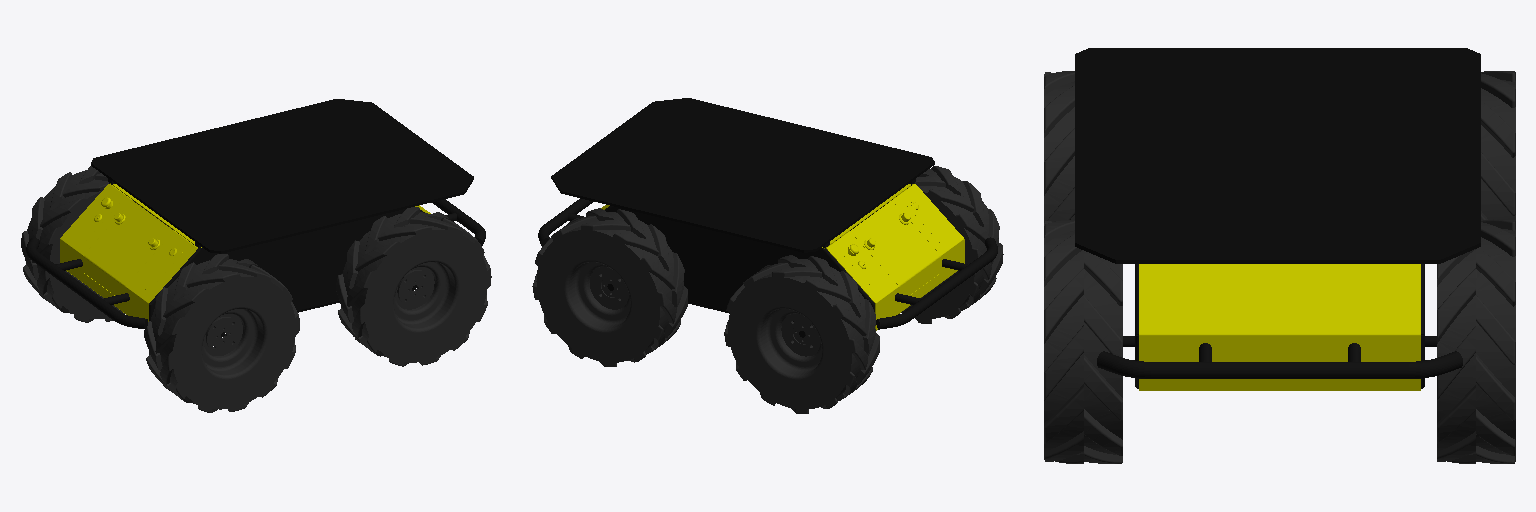
URDF robot description (husky):
<?xml version="1.0" ?>
<!-- =================================================================================== -->
<!-- |    This document was autogenerated by xacro from husky_description/urdf/husky.urdf.xacro | -->
<!-- |    EDITING THIS FILE BY HAND IS NOT RECOMMENDED                                 | -->
<!-- =================================================================================== -->
<!--
Software License Agreement (BSD)

\file      husky.urdf.xacro
\authors   [author] <[email redacted]>, [author] <[email redacted]>
\copyright Copyright (c) 2015, Clearpath Robotics, Inc., All rights reserved.

Redistribution and use in source and binary forms, with or without modification, are permitted provided that
the following conditions are met:
 * Redistributions of source code must retain the above copyright notice, this list of conditions and the
   following disclaimer.
 * Redistributions in binary form must reproduce the above copyright notice, this list of conditions and the
   following disclaimer in the documentation and/or other materials provided with the distribution.
 * Neither the name of Clearpath Robotics nor the names of its contributors may be used to endorse or promote
   products derived from this software without specific prior written permission.

THIS SOFTWARE IS PROVIDED BY THE COPYRIGHT [author] "AS IS" AND ANY EXPRESS OR IMPLIED WAR-
RANTIES, INCLUDING, BUT NOT LIMITED TO, THE IMPLIED WARRANTIES OF MERCHANTABILITY AND FITNESS FOR A PARTICULAR
PURPOSE ARE DISCLAIMED. IN NO EVENT SHALL THE COPYRIGHT [author] LIABLE FOR ANY DIRECT, IN-
DIRECT, INCIDENTAL, SPECIAL, EXEMPLARY, OR CONSEQUENTIAL DAMAGES (INCLUDING, BUT NOT LIMITED TO, PROCUREMENT
OF SUBSTITUTE GOODS OR SERVICES; LOSS OF USE, DATA, OR PROFITS; OR BUSINESS INTERRUPTION) HOWEVER CAUSED AND
ON ANY THEORY OF LIABILITY, WHETHER IN CONTRACT, STRICT LIABILITY, OR TORT (INCLUDING NEGLIGENCE OR OTHERWISE)
ARISING IN ANY WAY OUT OF THE USE OF THIS SOFTWARE, EVEN IF ADVISED OF THE POSSIBILITY OF SUCH DAMAGE.
-->
<robot name="husky" xmlns:xacro="http://ros.org/wiki/xacro">
  <!-- Base link is the center of the robot's bottom plate -->
  <link name="base_link">
    <visual>
      <origin rpy="0 0 0" xyz="0 0 0"/>
      <geometry>
        <mesh filename="package://husky_description/meshes/base_link.dae"/>
      </geometry>
    </visual>
    <collision>
      <origin rpy="0 0 0" xyz="0.0 0 0.061875"/>
      <geometry>
        <box size="0.9874 0.5709 0.12375"/>
      </geometry>
    </collision>
    <collision>
      <origin rpy="0 0 0" xyz="0 0 0.175625"/>
      <geometry>
        <box size="0.78992 0.5709 0.10375"/>
      </geometry>
    </collision>
  </link>
  <!-- Base footprint is on the ground under the robot -->
  <link name="base_footprint"/>
  <joint name="base_footprint_joint" type="fixed">
    <origin rpy="0 0 0" xyz="0 0 -0.13228"/>
    <parent link="base_link"/>
    <child link="base_footprint"/>
  </joint>
  <!-- Interial link stores the robot's inertial information -->
  <link name="inertial_link">
    <inertial>
      <mass value="46.034"/>
      <origin xyz="-0.00065 -0.085 0.062"/>
      <inertia ixx="0.6022" ixy="-0.02364" ixz="-0.1197" iyy="1.7386" iyz="-0.001544" izz="2.0296"/>
    </inertial>
  </link>
  <joint name="inertial_joint" type="fixed">
    <origin rpy="0 0 0" xyz="0 0 0"/>
    <parent link="base_link"/>
    <child link="inertial_link"/>
  </joint>
  <!-- IMU Link is the standard mounting position for the UM6 IMU.-->
  <!-- Can be modified with environment variables in /etc/ros/setup.bash -->
  <link name="imu_link"/>
  <joint name="imu_joint" type="fixed">
    <origin rpy="0 -1.5708 3.1416" xyz="0.19 0 0.149"/>
    <parent link="base_link"/>
    <child link="imu_link"/>
  </joint>
  <gazebo reference="imu_link">
  </gazebo>
  <link name="front_left_wheel_link">
    <inertial>
      <mass value="2.637"/>
      <origin xyz="0 0 0"/>
      <inertia ixx="0.02467" ixy="0" ixz="0" iyy="0.04411" iyz="0" izz="0.02467"/>
    </inertial>
    <visual>
      <origin rpy="0 0 0" xyz="0 0 0"/>
      <geometry>
        <mesh filename="package://husky_description/meshes/wheel.dae"/>
      </geometry>
    </visual>
    <collision>
      <origin rpy="1.570795 0 0" xyz="0 0 0"/>
      <geometry>
        <cylinder length="0.1143" radius="0.1651"/>
      </geometry>
    </collision>
  </link>
  <gazebo reference="front_left_wheel_link">
    <mu1 value="1.0"/>
    <mu2 value="1.0"/>
    <kp value="10000000.0"/>
    <kd value="1.0"/>
    <fdir1 value="1 0 0"/>
  </gazebo>
  <joint name="front_left_wheel" type="continuous">
    <parent link="base_link"/>
    <child link="front_left_wheel_link"/>
    <origin rpy="0 0 0" xyz="0.256 0.2854 0.03282"/>
    <axis rpy="0 0 0" xyz="0 1 0"/>
  </joint>
  <transmission name="front_left_wheel_trans" type="SimpleTransmission">
    <type>transmission_interface/SimpleTransmission</type>
    <actuator name="front_left_wheel_motor">
      <mechanicalReduction>1</mechanicalReduction>
    </actuator>
    <joint name="front_left_wheel">
      <hardwareInterface>hardware_interface/VelocityJointInterface</hardwareInterface>
    </joint>
  </transmission>
  <link name="front_right_wheel_link">
    <inertial>
      <mass value="2.637"/>
      <origin xyz="0 0 0"/>
      <inertia ixx="0.02467" ixy="0" ixz="0" iyy="0.04411" iyz="0" izz="0.02467"/>
    </inertial>
    <visual>
      <origin rpy="0 0 0" xyz="0 0 0"/>
      <geometry>
        <mesh filename="package://husky_description/meshes/wheel.dae"/>
      </geometry>
    </visual>
    <collision>
      <origin rpy="1.570795 0 0" xyz="0 0 0"/>
      <geometry>
        <cylinder length="0.1143" radius="0.1651"/>
      </geometry>
    </collision>
  </link>
  <gazebo reference="front_right_wheel_link">
    <mu1 value="1.0"/>
    <mu2 value="1.0"/>
    <kp value="10000000.0"/>
    <kd value="1.0"/>
    <fdir1 value="1 0 0"/>
  </gazebo>
  <joint name="front_right_wheel" type="continuous">
    <parent link="base_link"/>
    <child link="front_right_wheel_link"/>
    <origin rpy="0 0 0" xyz="0.256 -0.2854 0.03282"/>
    <axis rpy="0 0 0" xyz="0 1 0"/>
  </joint>
  <transmission name="front_right_wheel_trans" type="SimpleTransmission">
    <type>transmission_interface/SimpleTransmission</type>
    <actuator name="front_right_wheel_motor">
      <mechanicalReduction>1</mechanicalReduction>
    </actuator>
    <joint name="front_right_wheel">
      <hardwareInterface>hardware_interface/VelocityJointInterface</hardwareInterface>
    </joint>
  </transmission>
  <link name="rear_left_wheel_link">
    <inertial>
      <mass value="2.637"/>
      <origin xyz="0 0 0"/>
      <inertia ixx="0.02467" ixy="0" ixz="0" iyy="0.04411" iyz="0" izz="0.02467"/>
    </inertial>
    <visual>
      <origin rpy="0 0 0" xyz="0 0 0"/>
      <geometry>
        <mesh filename="package://husky_description/meshes/wheel.dae"/>
      </geometry>
    </visual>
    <collision>
      <origin rpy="1.570795 0 0" xyz="0 0 0"/>
      <geometry>
        <cylinder length="0.1143" radius="0.1651"/>
      </geometry>
    </collision>
  </link>
  <gazebo reference="rear_left_wheel_link">
    <mu1 value="1.0"/>
    <mu2 value="1.0"/>
    <kp value="10000000.0"/>
    <kd value="1.0"/>
    <fdir1 value="1 0 0"/>
  </gazebo>
  <joint name="rear_left_wheel" type="continuous">
    <parent link="base_link"/>
    <child link="rear_left_wheel_link"/>
    <origin rpy="0 0 0" xyz="-0.256 0.2854 0.03282"/>
    <axis rpy="0 0 0" xyz="0 1 0"/>
  </joint>
  <transmission name="rear_left_wheel_trans" type="SimpleTransmission">
    <type>transmission_interface/SimpleTransmission</type>
    <actuator name="rear_left_wheel_motor">
      <mechanicalReduction>1</mechanicalReduction>
    </actuator>
    <joint name="rear_left_wheel">
      <hardwareInterface>hardware_interface/VelocityJointInterface</hardwareInterface>
    </joint>
  </transmission>
  <link name="rear_right_wheel_link">
    <inertial>
      <mass value="2.637"/>
      <origin xyz="0 0 0"/>
      <inertia ixx="0.02467" ixy="0" ixz="0" iyy="0.04411" iyz="0" izz="0.02467"/>
    </inertial>
    <visual>
      <origin rpy="0 0 0" xyz="0 0 0"/>
      <geometry>
        <mesh filename="package://husky_description/meshes/wheel.dae"/>
      </geometry>
    </visual>
    <collision>
      <origin rpy="1.570795 0 0" xyz="0 0 0"/>
      <geometry>
        <cylinder length="0.1143" radius="0.1651"/>
      </geometry>
    </collision>
  </link>
  <gazebo reference="rear_right_wheel_link">
    <mu1 value="1.0"/>
    <mu2 value="1.0"/>
    <kp value="10000000.0"/>
    <kd value="1.0"/>
    <fdir1 value="1 0 0"/>
  </gazebo>
  <joint name="rear_right_wheel" type="continuous">
    <parent link="base_link"/>
    <child link="rear_right_wheel_link"/>
    <origin rpy="0 0 0" xyz="-0.256 -0.2854 0.03282"/>
    <axis rpy="0 0 0" xyz="0 1 0"/>
  </joint>
  <transmission name="rear_right_wheel_trans" type="SimpleTransmission">
    <type>transmission_interface/SimpleTransmission</type>
    <actuator name="rear_right_wheel_motor">
      <mechanicalReduction>1</mechanicalReduction>
    </actuator>
    <joint name="rear_right_wheel">
      <hardwareInterface>hardware_interface/VelocityJointInterface</hardwareInterface>
    </joint>
  </transmission>
  <!-- Spawn Husky chassis -->
  <link name="top_chassis_link">
    <visual>
      <origin rpy="0 0 0" xyz="0 0 0"/>
      <geometry>
        <mesh filename="package://husky_description/meshes/top_chassis.dae"/>
      </geometry>
    </visual>
  </link>
  <!-- Attach chassis to the robot -->
  <joint name="top_chassis_joint" type="fixed">
    <parent link="base_link"/>
    <child link="top_chassis_link"/>
  </joint>
  <!-- Spawn user rails -->
  <link name="user_rail_link">
    <visual>
      <geometry>
        <mesh filename="package://husky_description/meshes/user_rail.dae"/>
      </geometry>
    </visual>
  </link>
  <!-- Attach user rails to base link -->
  <joint name="user_rail" type="fixed">
    <origin rpy="0 0 0" xyz="0.272 0 0.245"/>
    <parent link="base_link"/>
    <child link="user_rail_link"/>
  </joint>
  <!-- Spawn front bumper link -->
  <link name="front_bumper_link">
    <visual>
      <geometry>
        <mesh filename="package://husky_description/meshes/bumper.dae"/>
      </geometry>
    </visual>
  </link>
  <!-- Attach front bumper -->
  <joint name="front_bumper" type="fixed">
    <origin rpy="0 0 0" xyz="0.48 0 0.091"/>
    <parent link="base_link"/>
    <child link="front_bumper_link"/>
  </joint>
  <!-- Spawn rear bumper link -->
  <link name="rear_bumper_link">
    <visual>
      <geometry>
        <mesh filename="package://husky_description/meshes/bumper.dae"/>
      </geometry>
    </visual>
  </link>
  <!-- Attach rear bumper -->
  <joint name="rear_bumper" type="fixed">
    <origin rpy="0 0 3.14159" xyz="-0.48 0 0.091"/>
    <parent link="base_link"/>
    <child link="rear_bumper_link"/>
  </joint>
  <link name="top_plate_link">
    <visual>
      <origin rpy="0 0 0" xyz="0 0 0"/>
      <geometry>
        <mesh filename="package://husky_description/meshes/top_plate.dae"/>
      </geometry>
    </visual>
    <collision>
      <origin rpy="0 0 0" xyz="0 0 0"/>
      <geometry>
        <mesh filename="package://husky_description/meshes/top_plate.stl"/>
      </geometry>
    </collision>
  </link>
  <!-- Attach top plate -->
  <joint name="top_plate_joint" type="fixed">
    <parent link="base_link"/>
    <child link="top_plate_link"/>
    <origin rpy="0 0 0" xyz="0.0812 0 0.245"/>
  </joint>
  <!-- Top plate front link -->
  <joint name="top_plate_front_joint" type="fixed">
    <parent link="top_plate_link"/>
    <child link="top_plate_front_link"/>
    <origin rpy="0 0 0" xyz="0.36367 0 0.00639"/>
  </joint>
  <!-- Top plate rear link-->
  <joint name="top_plate_rear_joint" type="fixed">
    <parent link="top_plate_link"/>
    <child link="top_plate_rear_link"/>
    <origin rpy="0 0 0" xyz="-0.36633 0 0.00639"/>
  </joint>
  <link name="top_plate_front_link"/>
  <link name="top_plate_rear_link"/>
  <gazebo>
    <plugin filename="libgazebo_ros_control.so" name="gazebo_ros_control">
      <robotNamespace>/</robotNamespace>
    </plugin>
  </gazebo>
  <gazebo>
    <plugin filename="libhector_gazebo_ros_imu.so" name="imu_controller">
      <robotNamespace>/</robotNamespace>
      <updateRate>50.0</updateRate>
      <bodyName>base_link</bodyName>
      <topicName>imu/data</topicName>
      <accelDrift>0.005 0.005 0.005</accelDrift>
      <accelGaussianNoise>0.005 0.005 0.005</accelGaussianNoise>
      <rateDrift>0.005 0.005 0.005 </rateDrift>
      <rateGaussianNoise>0.005 0.005 0.005 </rateGaussianNoise>
      <headingDrift>0.005</headingDrift>
      <headingGaussianNoise>0.005</headingGaussianNoise>
    </plugin>
  </gazebo>
  <gazebo>
    <plugin filename="libhector_gazebo_ros_gps.so" name="gps_controller">
      <robotNamespace>/</robotNamespace>
      <updateRate>40</updateRate>
      <bodyName>base_link</bodyName>
      <frameId>base_link</frameId>
      <topicName>navsat/fix</topicName>
      <velocityTopicName>navsat/vel</velocityTopicName>
      <referenceLatitude>49.9</referenceLatitude>
      <referenceLongitude>8.9</referenceLongitude>
      <referenceHeading>0</referenceHeading>
      <referenceAltitude>0</referenceAltitude>
      <drift>0.0001 0.0001 0.0001</drift>
    </plugin>
  </gazebo>
  <!-- This file is a placeholder which is included by default from
       husky.urdf.xacro. If a robot is being customized and requires
       additional URDF, set the HUSKY_URDF_EXTRAS environment variable
       to the full path of the file you would like included. -->
</robot>

--- What the picture shows (computed from the rendered views, not written in the file) ---
The picture shows the robot from 3 angles, left to right: view 1: azimuth 30°, elevation 25°; view 2: azimuth 150°, elevation 25°; view 3: azimuth 270°, elevation 25°; orthographic projection.
Model husky with 15 links and 14 joints (4 continuous, 10 fixed), rooted at base_link, posed all joints at 0.
Links seen in each view (by area): view 1: top_plate_link, front_right_wheel_link, rear_right_wheel_link, top_chassis_link, base_link, rear_left_wheel_link, rear_bumper_link, front_bumper_link; view 2: top_plate_link, front_left_wheel_link, rear_left_wheel_link, top_chassis_link, base_link, rear_right_wheel_link, rear_bumper_link, front_bumper_link; view 3: top_plate_link, top_chassis_link, front_left_wheel_link, front_right_wheel_link, front_bumper_link, rear_left_wheel_link, rear_right_wheel_link, base_link.
Boxes of the visible links, x1,y1,x2,y2 form: top_plate_link: [91, 99, 473, 253]; front_right_wheel_link: [336, 207, 491, 366]; rear_right_wheel_link: [144, 254, 299, 412]; top_chassis_link: [60, 183, 430, 321]; base_link: [109, 183, 424, 337]; rear_left_wheel_link: [21, 166, 124, 322]; rear_bumper_link: [26, 237, 147, 329]; front_bumper_link: [432, 199, 485, 245]; top_plate_link: [551, 98, 934, 252]; front_left_wheel_link: [532, 208, 687, 366]; rear_left_wheel_link: [724, 255, 879, 413]; top_chassis_link: [601, 184, 964, 330]; base_link: [605, 183, 914, 337]; rear_right_wheel_link: [898, 166, 1003, 323]; rear_bumper_link: [876, 237, 997, 329]; front_bumper_link: [538, 198, 592, 246]; top_plate_link: [1075, 48, 1480, 263]; top_chassis_link: [1139, 264, 1420, 390]; front_left_wheel_link: [1437, 219, 1515, 463]; front_right_wheel_link: [1044, 219, 1122, 463]; front_bumper_link: [1097, 343, 1462, 378]; rear_left_wheel_link: [1481, 71, 1515, 220]; rear_right_wheel_link: [1044, 71, 1074, 222]; base_link: [1123, 264, 1436, 388].
Size in the robot's own frame: 0.9854 by 0.6851 by 0.3964 metres.
10 mesh visuals loaded from 6 distinct referenced files (6 Collada DAE).